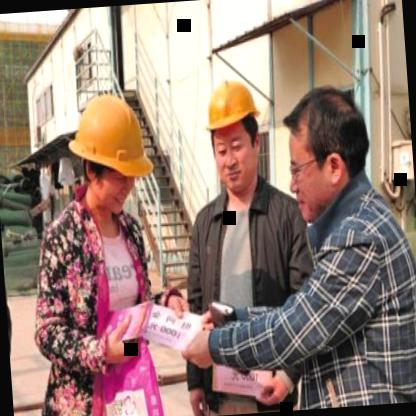head: (280, 78, 375, 224)
helmet: (61, 84, 154, 230), (197, 67, 270, 200)
